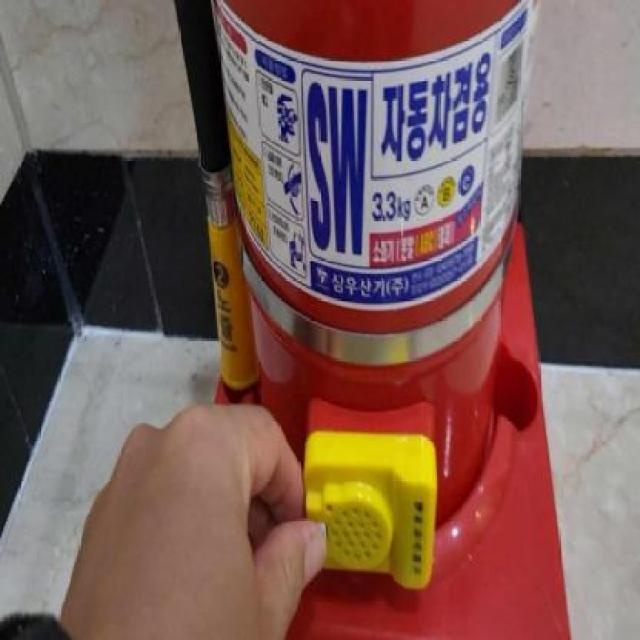fire extinguisher: (173, 0, 542, 534)
